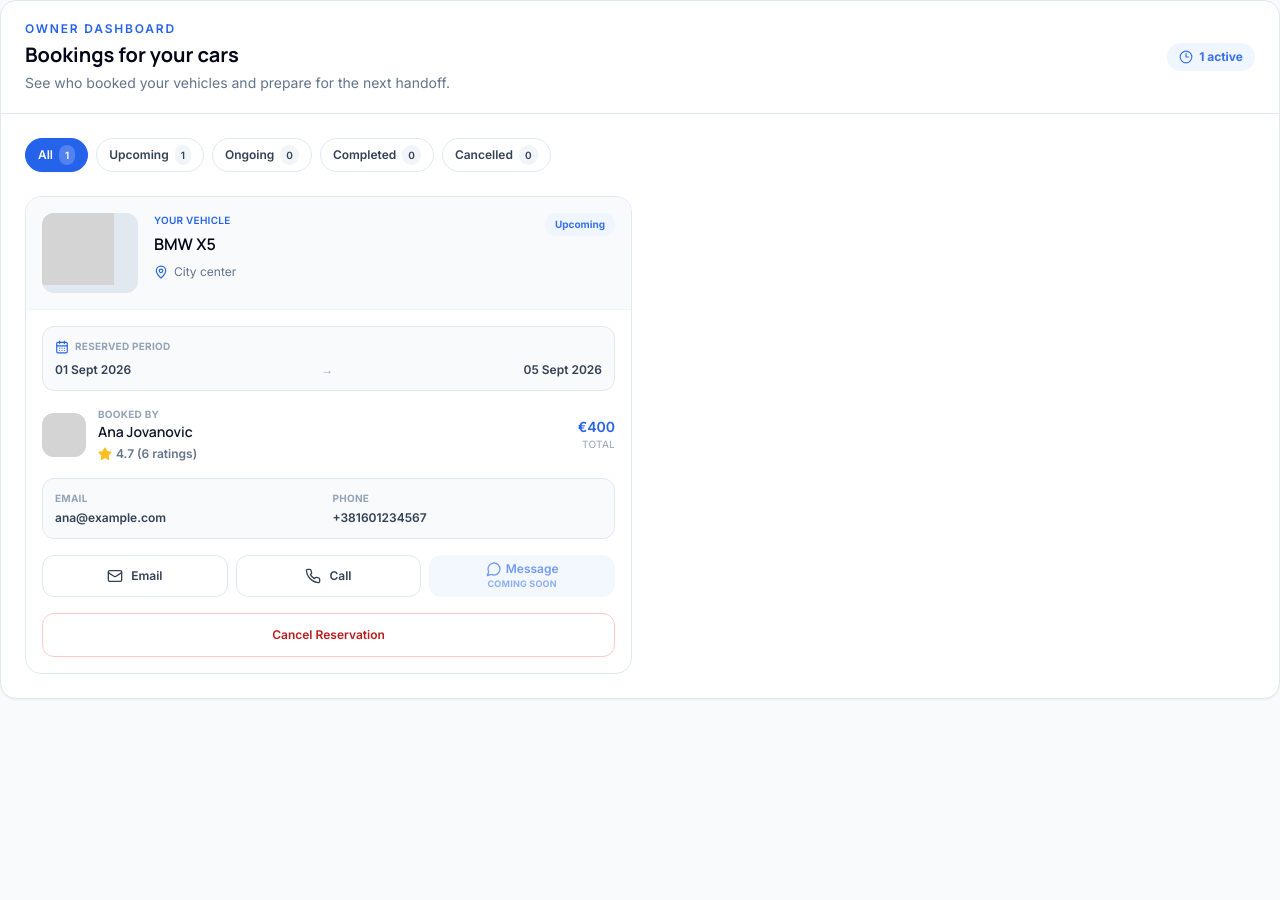
Test: IncomingBookingsSection › updates an incoming booking after the owner cancels it
Click the button "Cancel Reservation": (328, 634) [42,612,615,656]
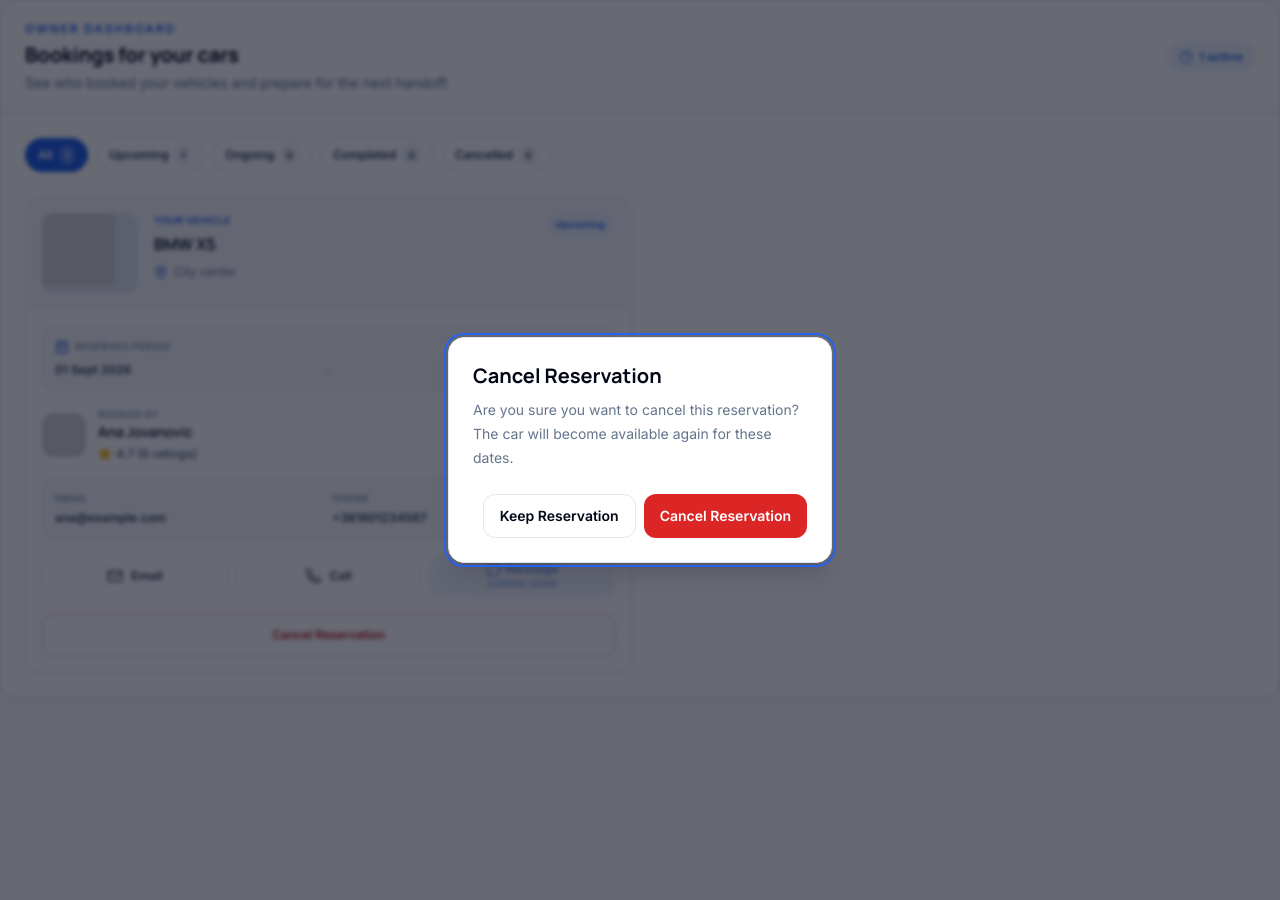
Click the button "Cancel Reservation": (725, 516) [644,494,807,538]
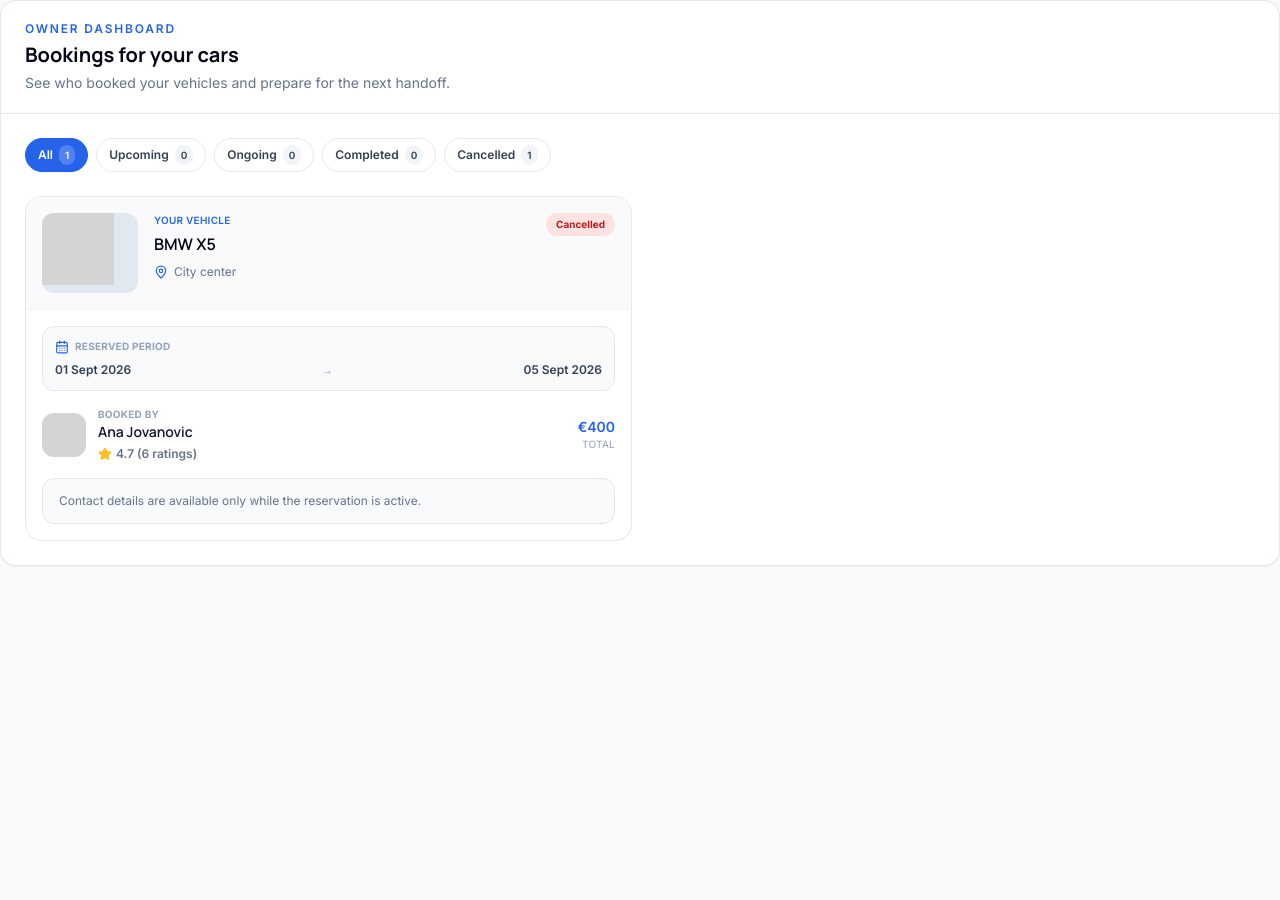
expect the link "ana@example.com" is gone: met
expect the link "+381601234567" is gone: met
expect the button "Cancel Reservation" is gone: met
